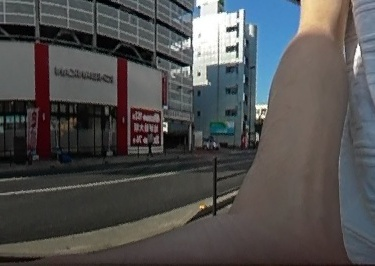person: (145, 128, 155, 156)
